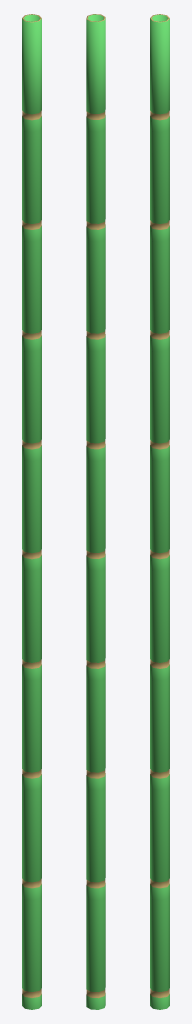
Rendered from Bambu_Longo.fbx.
3 views of the same model, side by side, from view 1: azimuth 90°, elevation 25°; view 2: azimuth 150°, elevation 25°; view 3: azimuth 270°, elevation 25° (orthographic).
Visible parts, largest first — view 1: Bambu_Longo; view 2: Bambu_Longo; view 3: Bambu_Longo.
Boxes of the visible parts, x1=… form: Bambu_Longo: x1=22, y1=14, x2=41, y2=1009; Bambu_Longo: x1=86, y1=14, x2=105, y2=1009; Bambu_Longo: x1=150, y1=14, x2=169, y2=1009.
Size of the model in its own units: 0.0744 by 0.0744 by 4.02.
